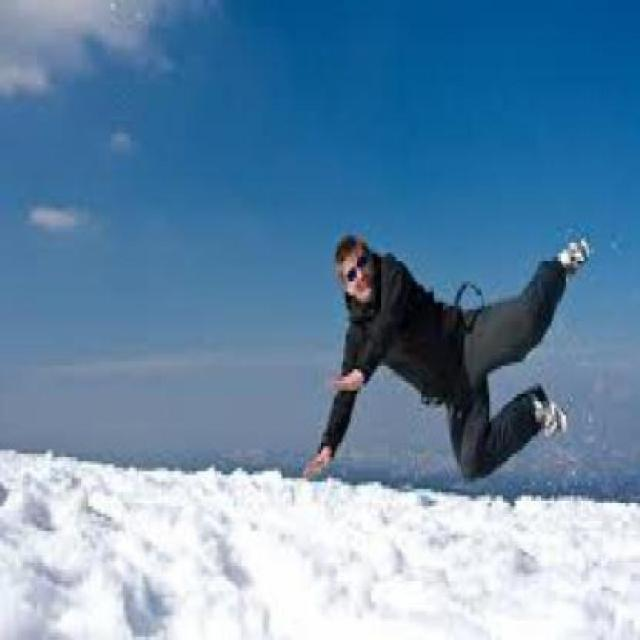fall: (307, 208, 601, 500)
